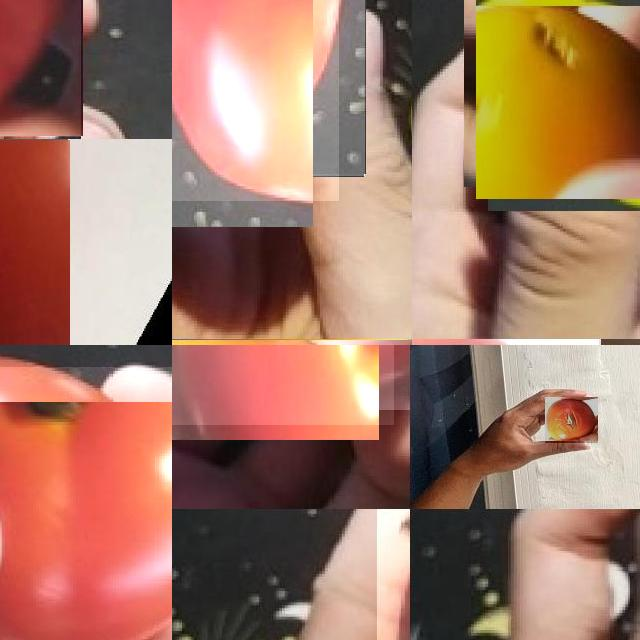Fresh Tomato: (0, 367, 172, 640), (172, 0, 339, 201), (172, 345, 394, 425), (0, 139, 70, 345)
Rotten Tomato: (476, 0, 640, 199), (545, 398, 598, 443)
